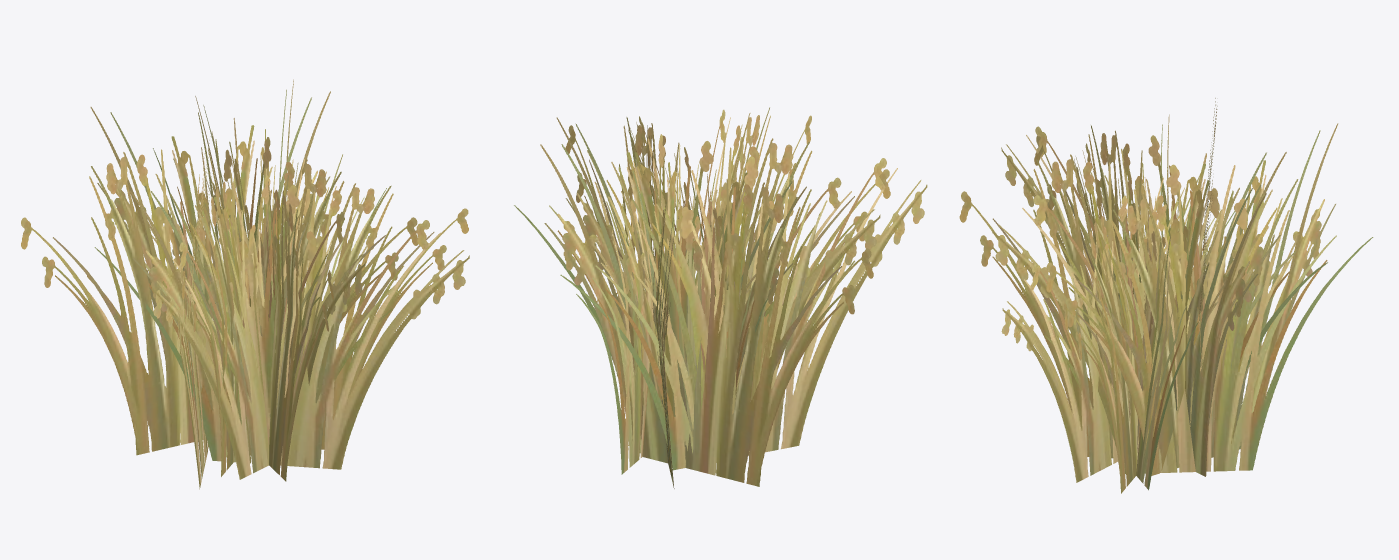
Rendered from grass_dry.glb.
3 renders of one model, left to right at view 1: azimuth 30°, elevation 25°; view 2: azimuth 150°, elevation 25°; view 3: azimuth 270°, elevation 25°, orthographic. The views are drawn at different scales.
Visible parts, largest first — view 1: grass_dry_mesh; view 2: grass_dry_mesh; view 3: grass_dry_mesh.
Part boxes in pixels (x1,y1,x2,y2): grass_dry_mesh: (21, 79, 469, 489); grass_dry_mesh: (514, 107, 927, 488); grass_dry_mesh: (959, 98, 1373, 493).
Size of the model in its own units: 0.4543 by 0.4005 by 0.4366.
Materials: 1 (1 with a texture image).
